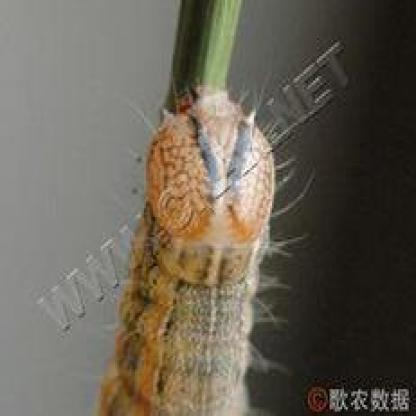armyworm: (93, 81, 288, 416)
